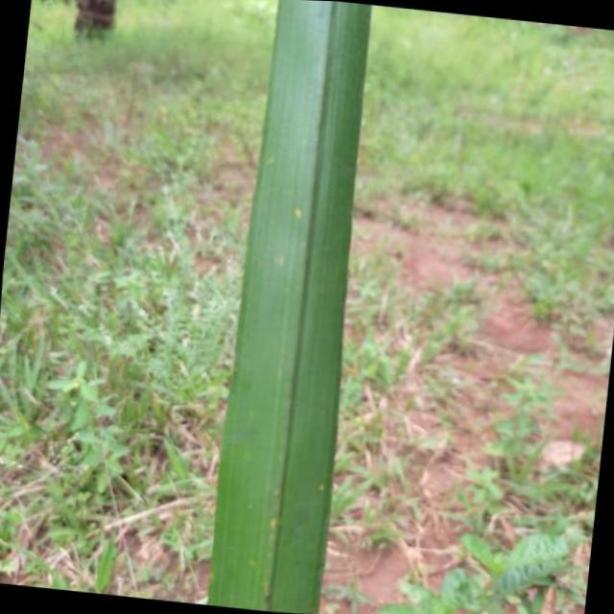Kalium: (206, 0, 371, 614)
